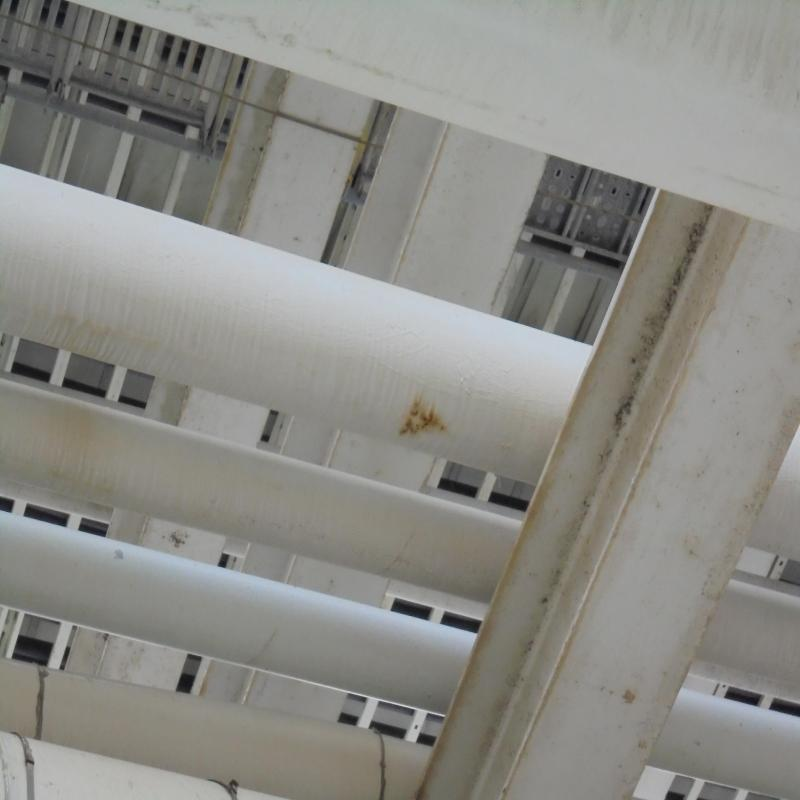corrosion: (414, 418, 428, 442), (403, 418, 415, 419)
